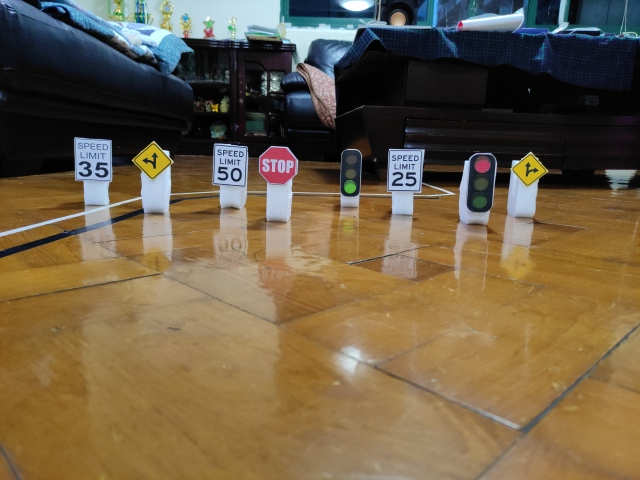Green Traffic Light: (340, 148, 361, 197)
Red Traffic Light: (467, 153, 496, 213)
Speed Limit 25: (387, 149, 422, 191)
Speed Limit 35: (72, 137, 112, 181)
Speed Limit 50: (212, 142, 248, 186)
Stop Sign: (258, 146, 298, 185)
Straight Or Left Sign: (133, 142, 173, 179)
Straight Or Right Sign: (512, 154, 548, 186)
